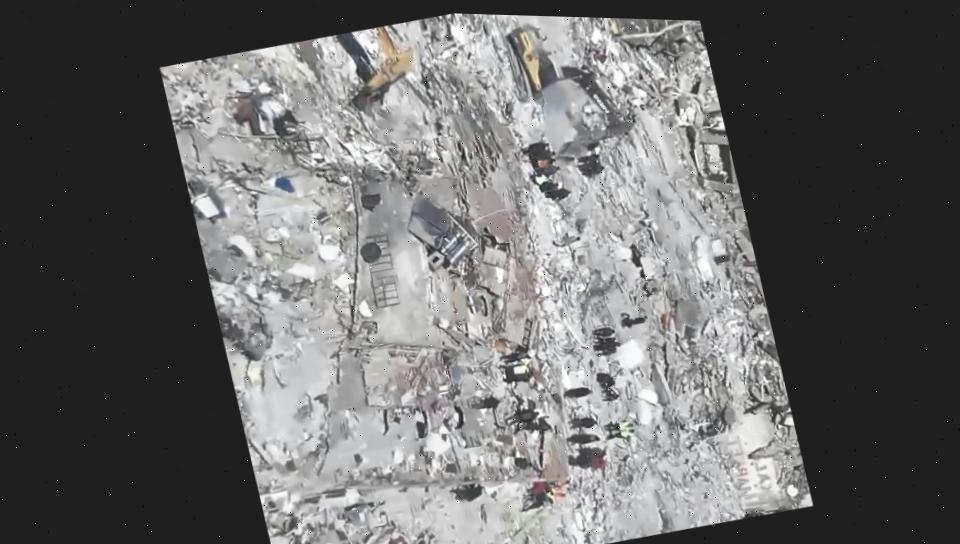kapali: (204, 13, 672, 94)
